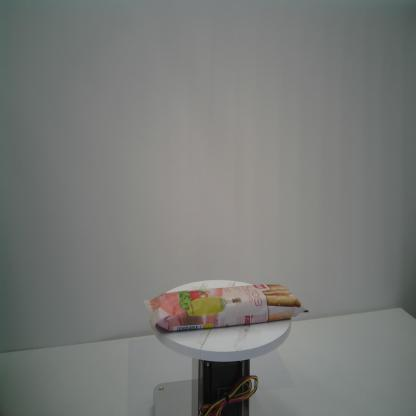Dessert: (141, 280, 312, 336)
